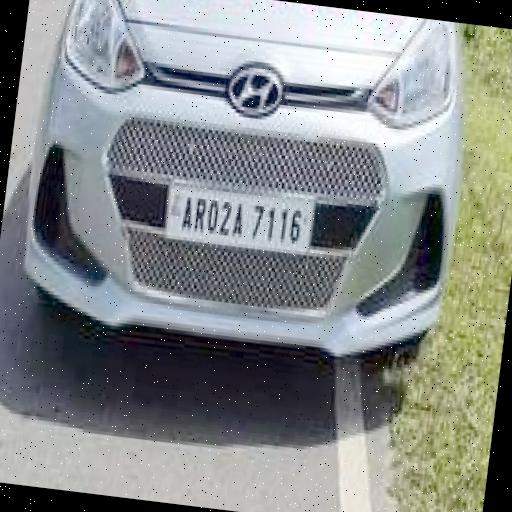license_plate`: (162, 175, 313, 252)
